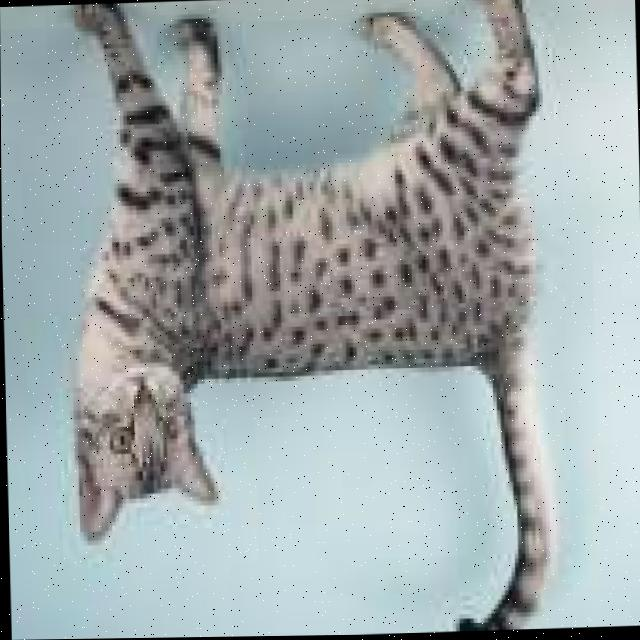Egyptian Mau: (51, 0, 564, 639)
